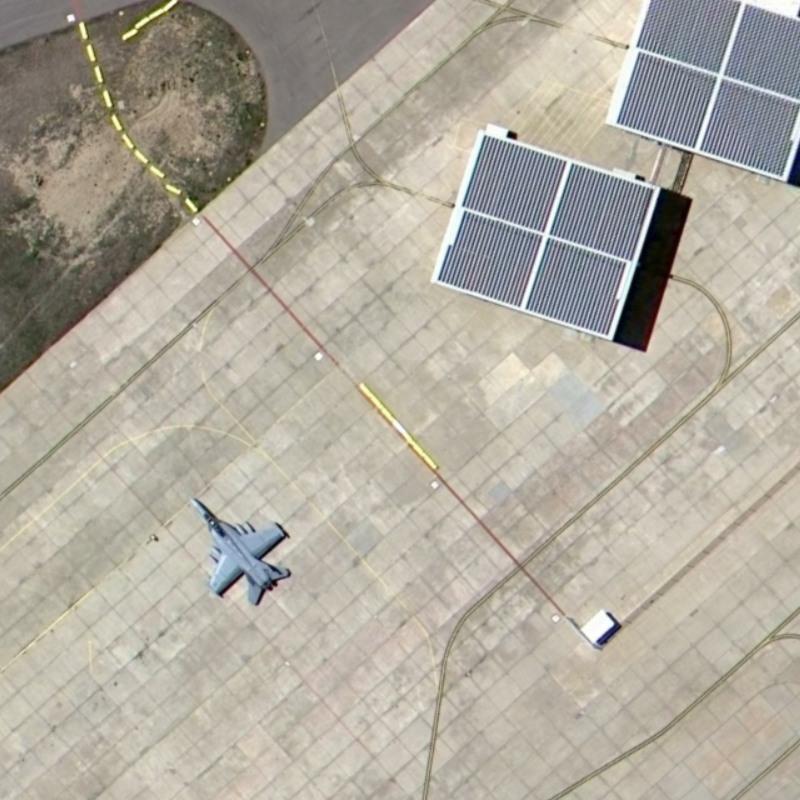A16: (182, 486, 307, 610)
